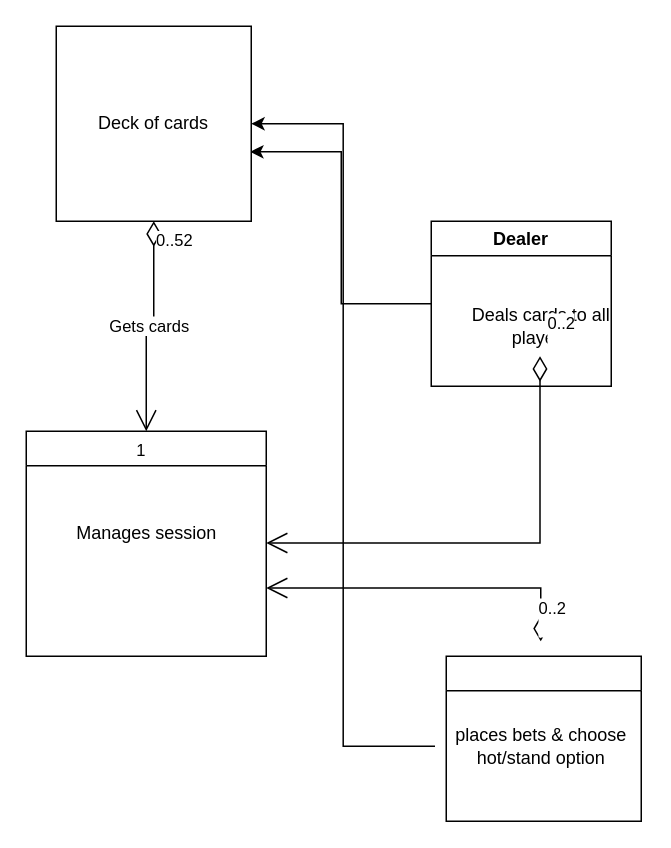
Image size: 671x848. Some labels were removed from this diagram. Here are the shapes that lost their labels. From the top down, the box of each, then its label:
(25, 430, 266, 656): Game
(445, 655, 641, 821): Player 1
